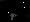person: (7, 7, 30, 22)
